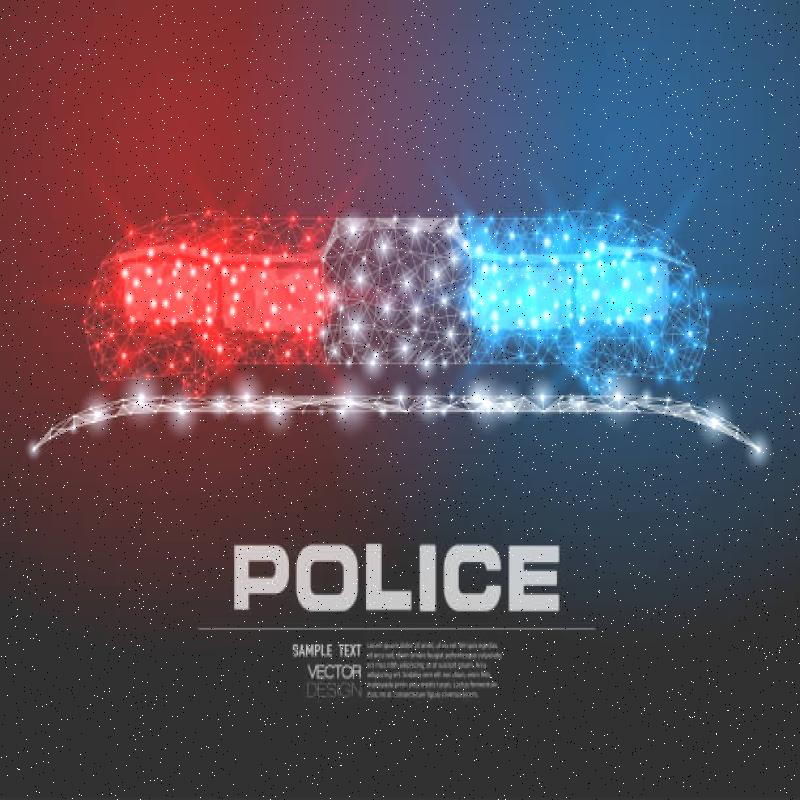AmbulanceSiren: (59, 170, 745, 430)
